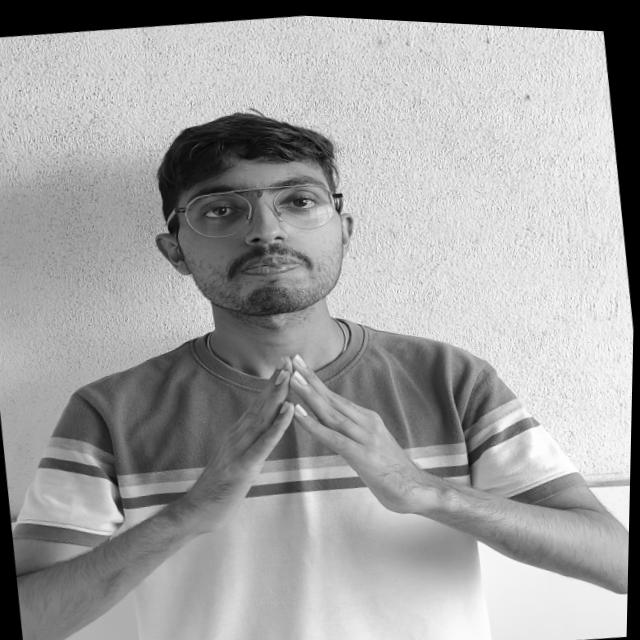Home: (160, 323, 476, 553)
